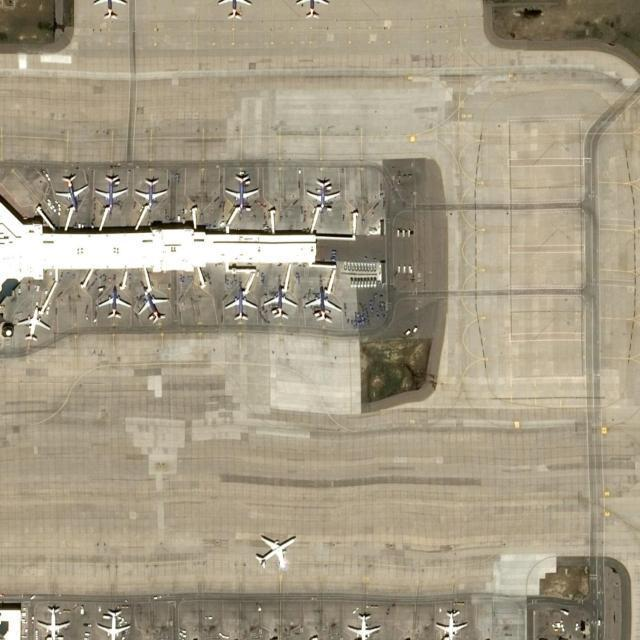Aircraft: (256, 531, 302, 571), (221, 171, 261, 211), (132, 174, 172, 212), (17, 305, 55, 343), (305, 287, 345, 323), (35, 604, 75, 640), (264, 282, 300, 321), (303, 178, 343, 212), (54, 172, 88, 212), (97, 285, 133, 322), (94, 173, 130, 209), (226, 284, 258, 322), (347, 610, 387, 640), (138, 286, 170, 322), (98, 608, 132, 640), (434, 609, 469, 640), (215, 1, 261, 23), (296, 0, 336, 21), (93, 1, 135, 21)
